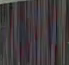No Stopping: (11, 6, 56, 54)
